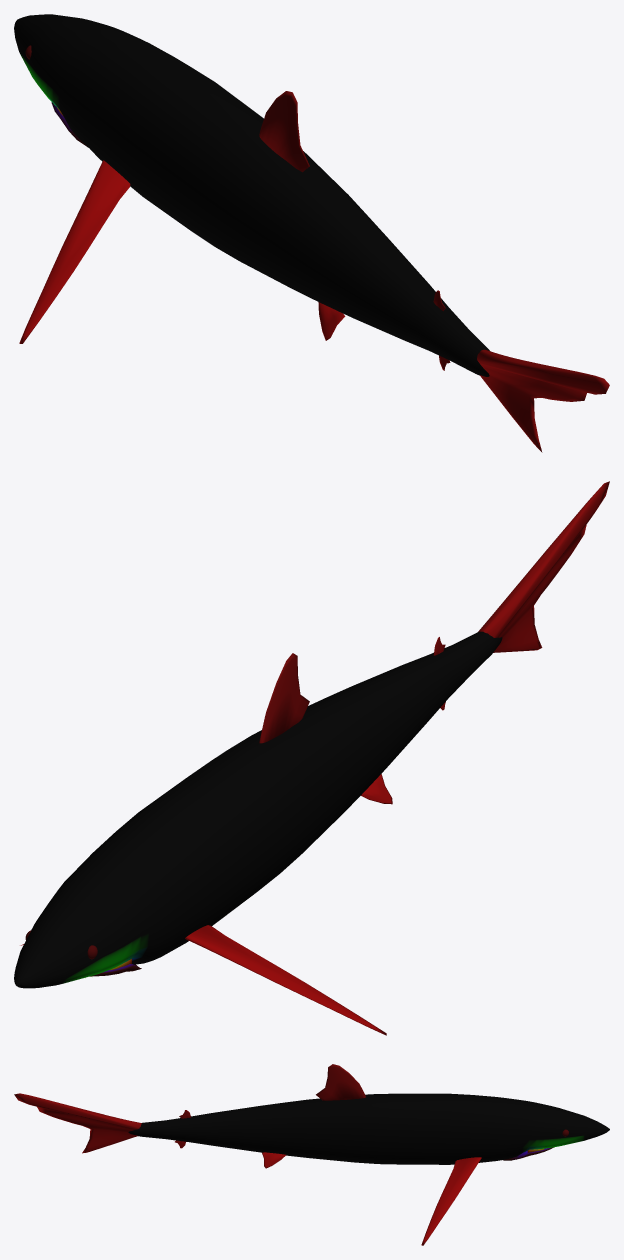
The model's file is blue_shark_game.glb.
3 renders of one model, top to bottom at view 1: azimuth 30°, elevation 25°; view 2: azimuth 150°, elevation 25°; view 3: azimuth 270°, elevation 25°, orthographic. The views are drawn at different scales.
Parts seen in each view (by area): view 1: blue_shark_game; view 2: blue_shark_game; view 3: blue_shark_game.
Boxes of the visible parts, bbox=[...] form: blue_shark_game: bbox=[14, 14, 609, 452]; blue_shark_game: bbox=[14, 481, 609, 1035]; blue_shark_game: bbox=[14, 1064, 609, 1245].
Bounding box in the file's own units: 1.07 × 0.7602 × 3.
